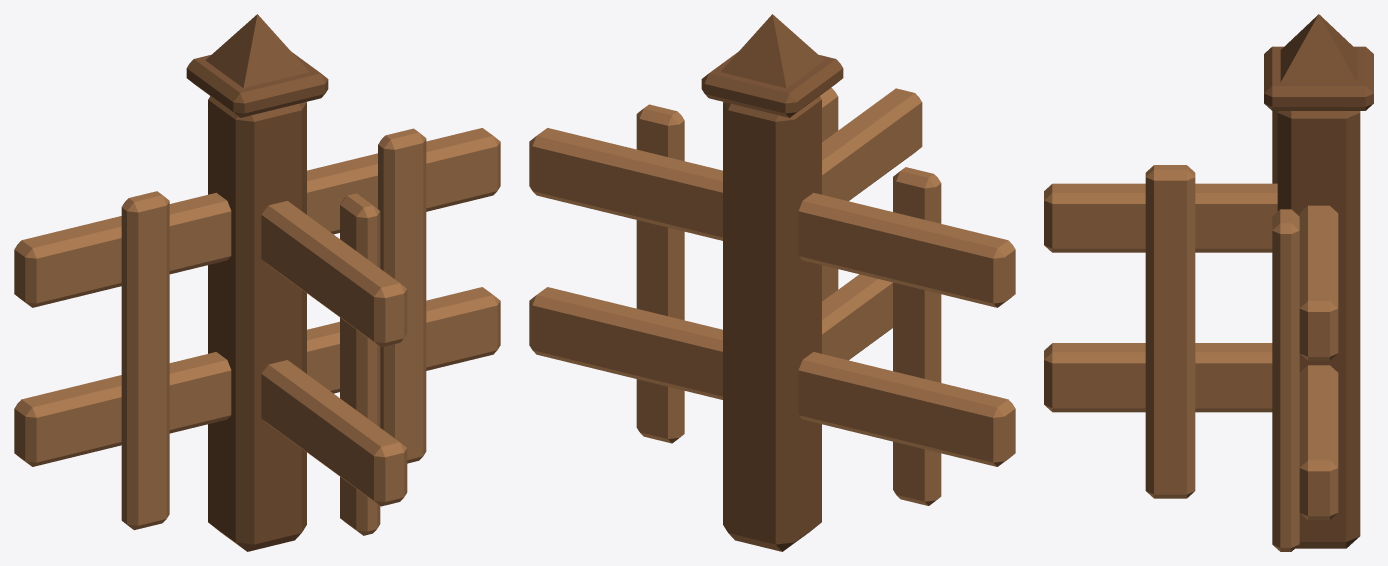
Rendered from fence_t.glb.
The picture shows the model from 3 angles, left to right: view 1: azimuth 30°, elevation 25°; view 2: azimuth 150°, elevation 25°; view 3: azimuth 270°, elevation 25°; orthographic projection.
Visible parts, largest first — view 1: fence_t; view 2: fence_t; view 3: fence_t.
Part boxes in pixels (x1,y1,x2,y2): fence_t: (14, 14, 500, 551); fence_t: (529, 14, 1015, 551); fence_t: (1044, 14, 1373, 551).
Size of the model in its own units: 1 by 1.05 by 0.6.
